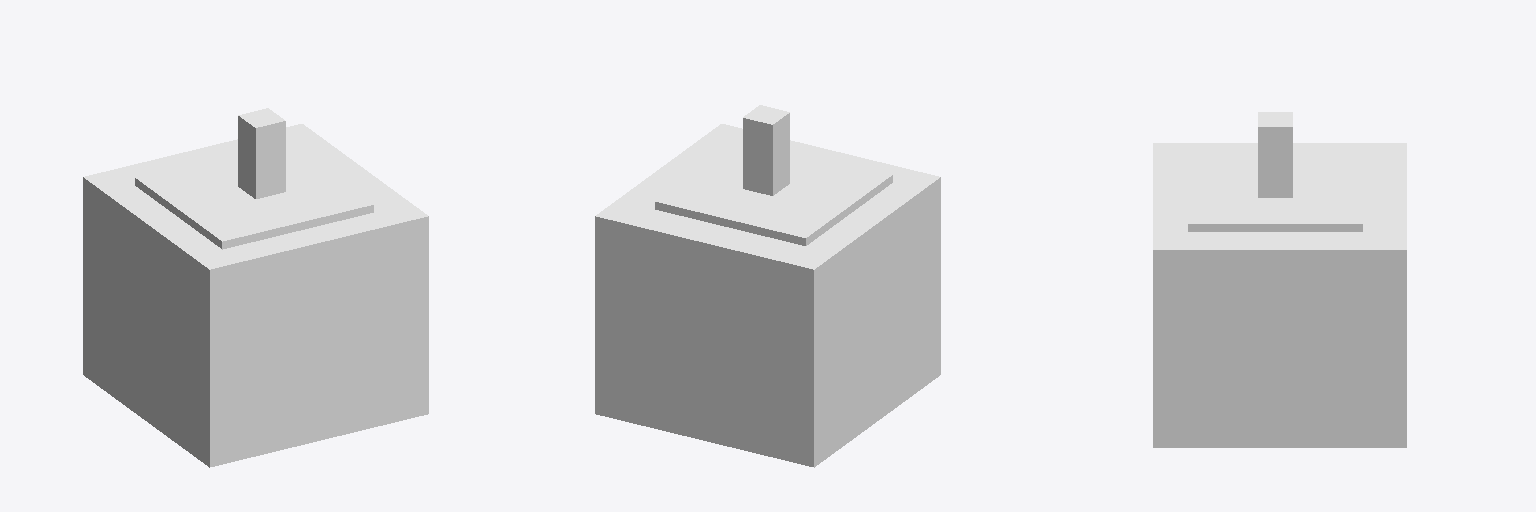
File: bom.obj
3 renders of one model, left to right at view 1: azimuth 30°, elevation 25°; view 2: azimuth 150°, elevation 25°; view 3: azimuth 270°, elevation 25°, orthographic.
Visible parts, largest first — view 1: object 1; view 2: object 1; view 3: object 1.
Part boxes in pixels (left/top/right/bottom): object 1: left=83, top=108, right=428, bottom=467; object 1: left=595, top=105, right=940, bottom=467; object 1: left=1153, top=112, right=1406, bottom=447.
Size of the model in its own units: 2.9 by 3.5 by 2.9.